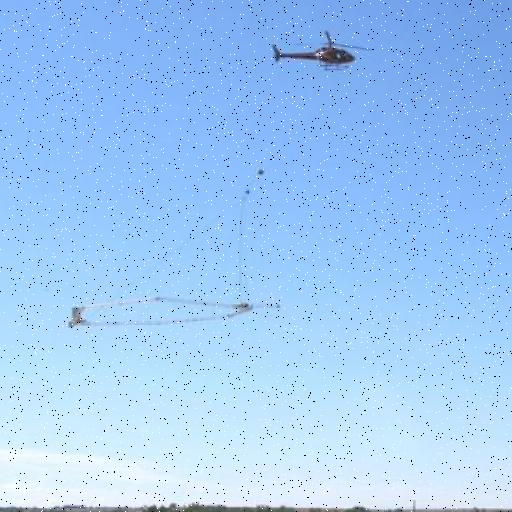helicopter: (274, 33, 370, 74)
